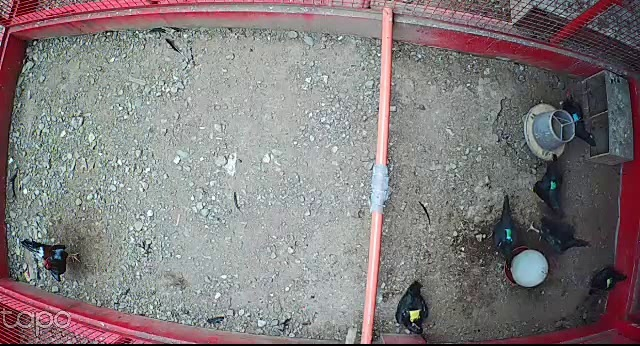Chicken: (528, 152, 571, 221), (527, 215, 592, 257), (553, 87, 598, 147), (394, 278, 432, 337), (493, 194, 519, 271), (589, 265, 629, 292)
Drinker: (502, 245, 551, 289)
Feeder: (525, 105, 574, 160)
Rooster: (19, 237, 83, 283)
Saddle_Color_Blue: (572, 112, 581, 121)
Saddle_Color_Yellow: (408, 309, 422, 322)
Saddle_Color_YellowGreen: (607, 276, 612, 286)
